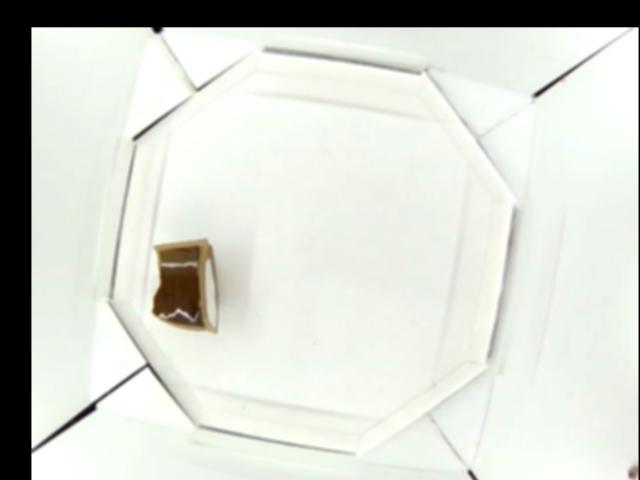China: (147, 236, 221, 329)
